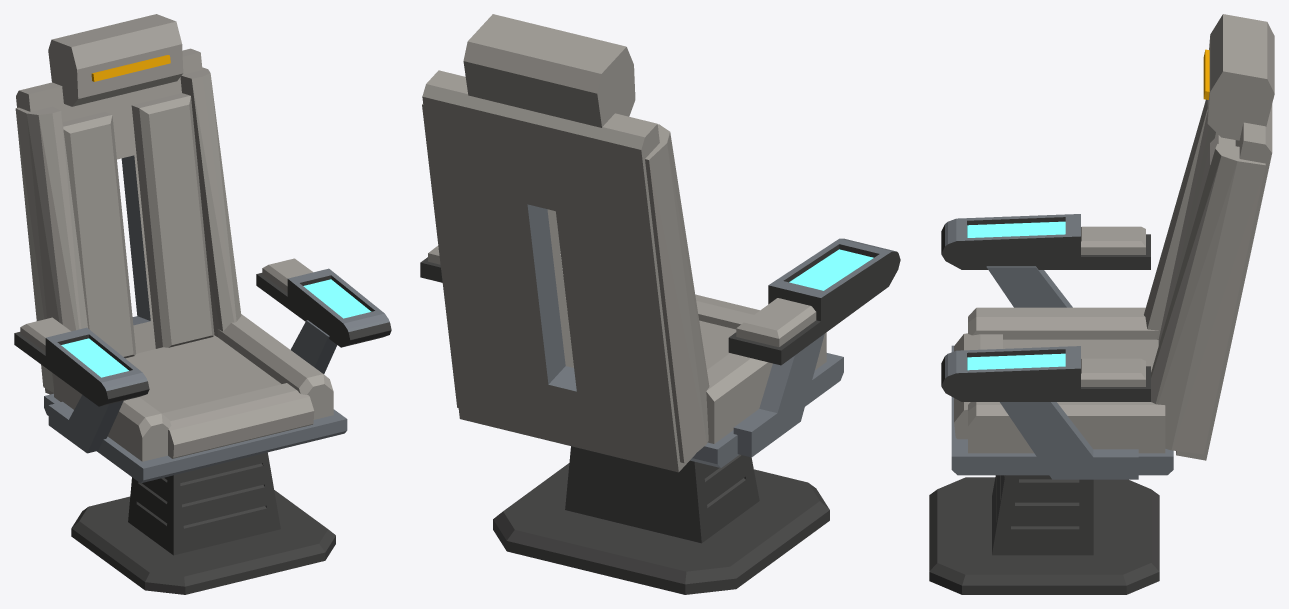
File: captain_chair.glb
The picture shows the model from 3 angles, left to right: view 1: azimuth 30°, elevation 25°; view 2: azimuth 150°, elevation 25°; view 3: azimuth 270°, elevation 25°; orthographic projection. The views are drawn at different scales.
Visible parts, largest first — view 1: captain_chair; view 2: captain_chair; view 3: captain_chair.
Part boxes in pixels (box(x1,y1,x2,y2)): captain_chair: box(14, 14, 391, 594); captain_chair: box(420, 14, 900, 594); captain_chair: box(929, 14, 1274, 594).
Size of the model in its own units: 0.89 by 1.34 by 0.8403.
